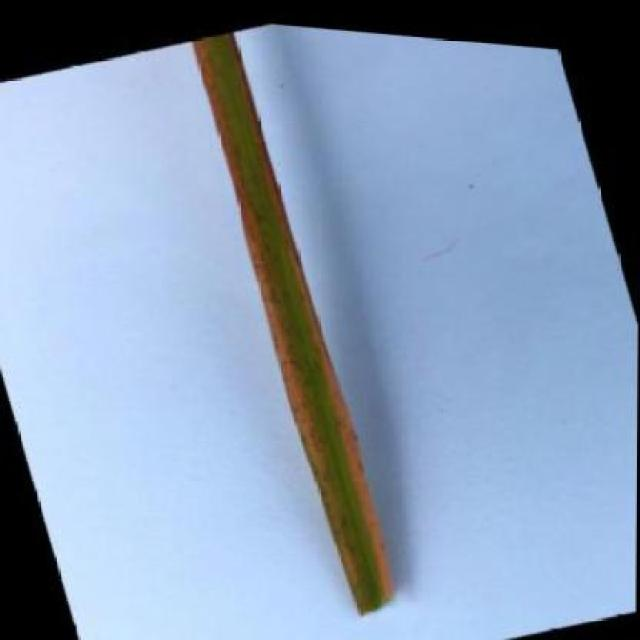Rice False Smut: (177, 26, 405, 620)
